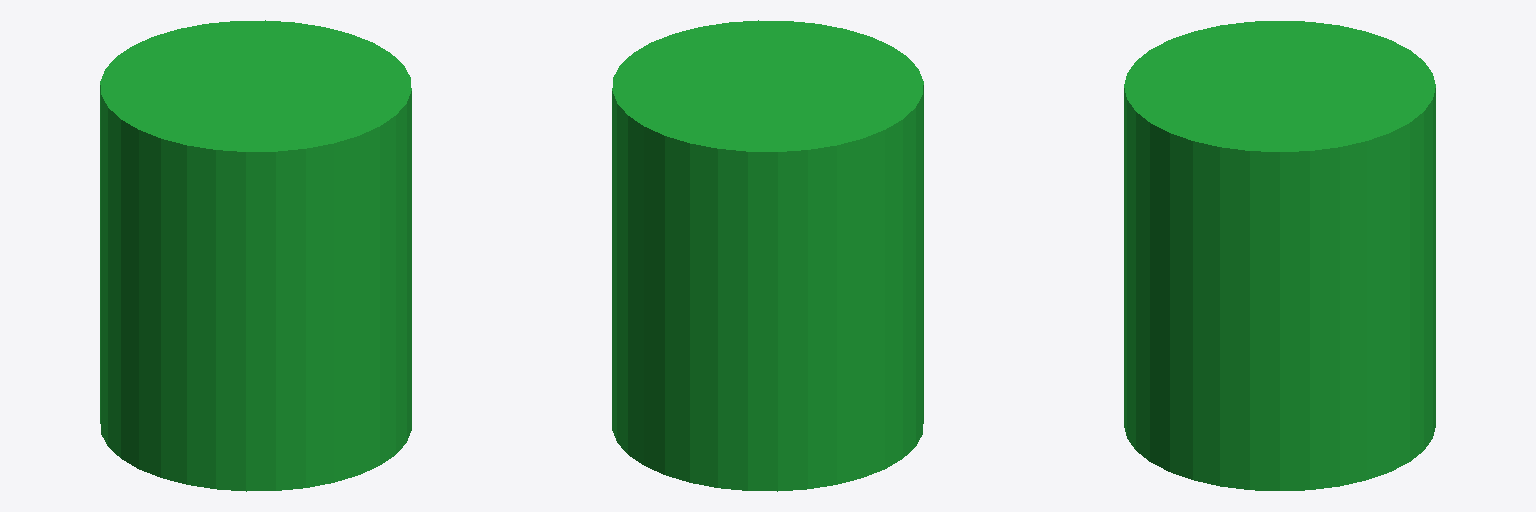
The robot description file, URDF, robot "green_cylinder":
<?xml version="1.0"?>
<robot name="green_cylinder">
  <link name="base_link">
    <contact>
      <lateral_friction value="0.9"/>
      <rolling_friction value="0.03"/>
      <spinning_friction value="0.03"/>
      <restitution value="0.0"/>
    </contact>
    <inertial>
      <origin rpy="0 0 0" xyz="0 0 0"/>
      <mass value="0.5"/>
      <inertia ixx="0.001" ixy="0" ixz="0" iyy="0.001" iyz="0" izz="0.001"/>
    </inertial>
    <visual>
      <origin rpy="0 0 0" xyz="0 0 0"/>
      <geometry>
        <cylinder radius="0.05" length="0.12"/>
      </geometry>
      <material name="green">
        <color rgba="0.180 0.720 0.280 1.000"/>
      </material>
    </visual>
    <collision>
      <origin rpy="0 0 0" xyz="0 0 0"/>
      <geometry>
        <cylinder radius="0.05" length="0.12"/>
      </geometry>
    </collision>
  </link>
</robot>

--- Render facts (derived) ---
Views: 3 orthographic renders of the robot side by side, from view 1: azimuth 30°, elevation 25°; view 2: azimuth 150°, elevation 25°; view 3: azimuth 270°, elevation 25°.
Robot: green_cylinder — 1 links, 0 joints (none); root link base_link; default pose: all joints at 0.
Links seen in each view (by area): view 1: base_link; view 2: base_link; view 3: base_link.
Link boxes in pixels (x1,y1,x2,y2): base_link: (100,20,411,491); base_link: (612,20,923,491); base_link: (1124,21,1435,490).
Size in the robot's own frame: 0.1 by 0.1 by 0.12 metres.
Geometry: primitives only (box / cylinder / sphere), no mesh files.
